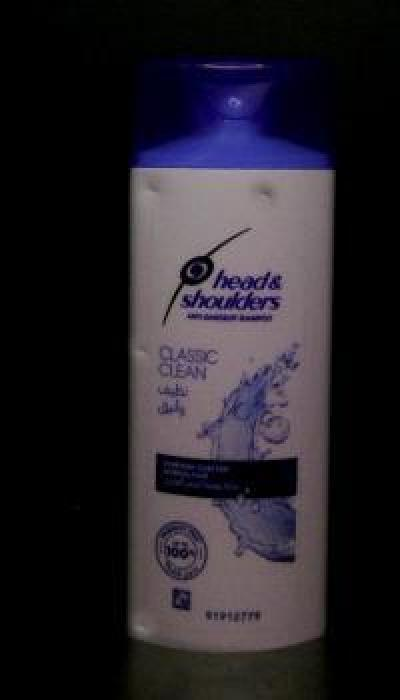dent_unacc: (131, 171, 187, 213), (252, 166, 288, 214), (133, 320, 161, 378), (128, 587, 154, 645)
